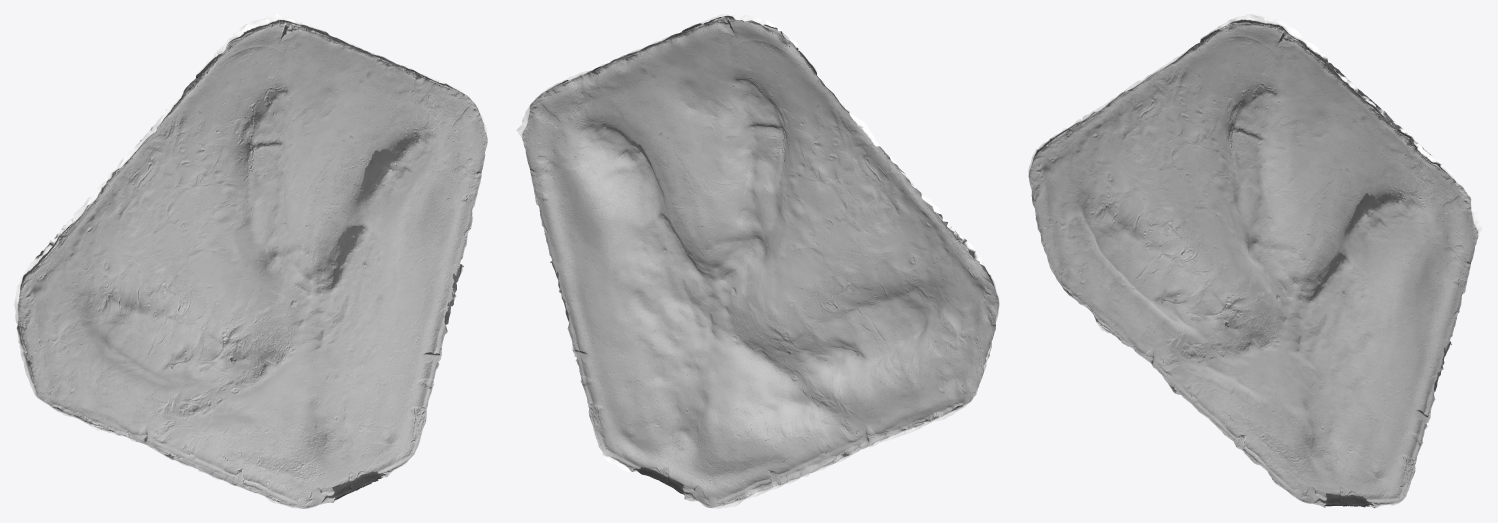
The model's file is dinosaur_footprint.glb.
3 views of the same model, side by side, from view 1: azimuth 30°, elevation 25°; view 2: azimuth 150°, elevation 25°; view 3: azimuth 330°, elevation 25° (orthographic). The views are drawn at different scales.
Parts seen in each view (by area): view 1: Geode; view 2: Geode; view 3: Geode.
Part boxes in pixels (x1,y1,x2,y2): Geode: [14, 14, 487, 508]; Geode: [516, 14, 999, 508]; Geode: [1028, 14, 1483, 508].
Size of the model in its own units: 0.3603 by 0.3612 by 0.0226.
1 material, 1 textured.
